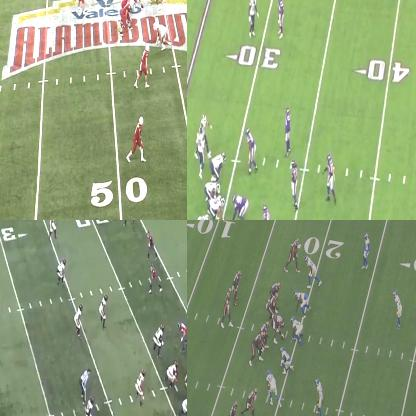CENTER: (210, 196, 226, 219), (273, 314, 285, 340)
DB: (275, 0, 287, 40), (326, 157, 336, 204), (284, 110, 291, 153), (395, 291, 403, 327), (364, 232, 371, 271), (77, 306, 84, 337), (59, 257, 66, 281), (49, 220, 57, 238), (88, 401, 96, 415)
LB: (289, 161, 299, 205), (306, 254, 319, 286), (315, 375, 323, 415), (138, 370, 146, 402), (99, 294, 106, 322), (260, 203, 272, 219)
QB: (223, 287, 234, 328), (80, 0, 90, 15)
SKILL: (133, 117, 146, 162), (140, 44, 151, 88), (242, 385, 257, 415), (247, 0, 259, 35), (195, 128, 204, 168), (286, 240, 298, 270), (150, 266, 160, 290), (235, 270, 242, 302), (225, 399, 239, 415), (146, 230, 154, 257), (198, 112, 209, 129)
